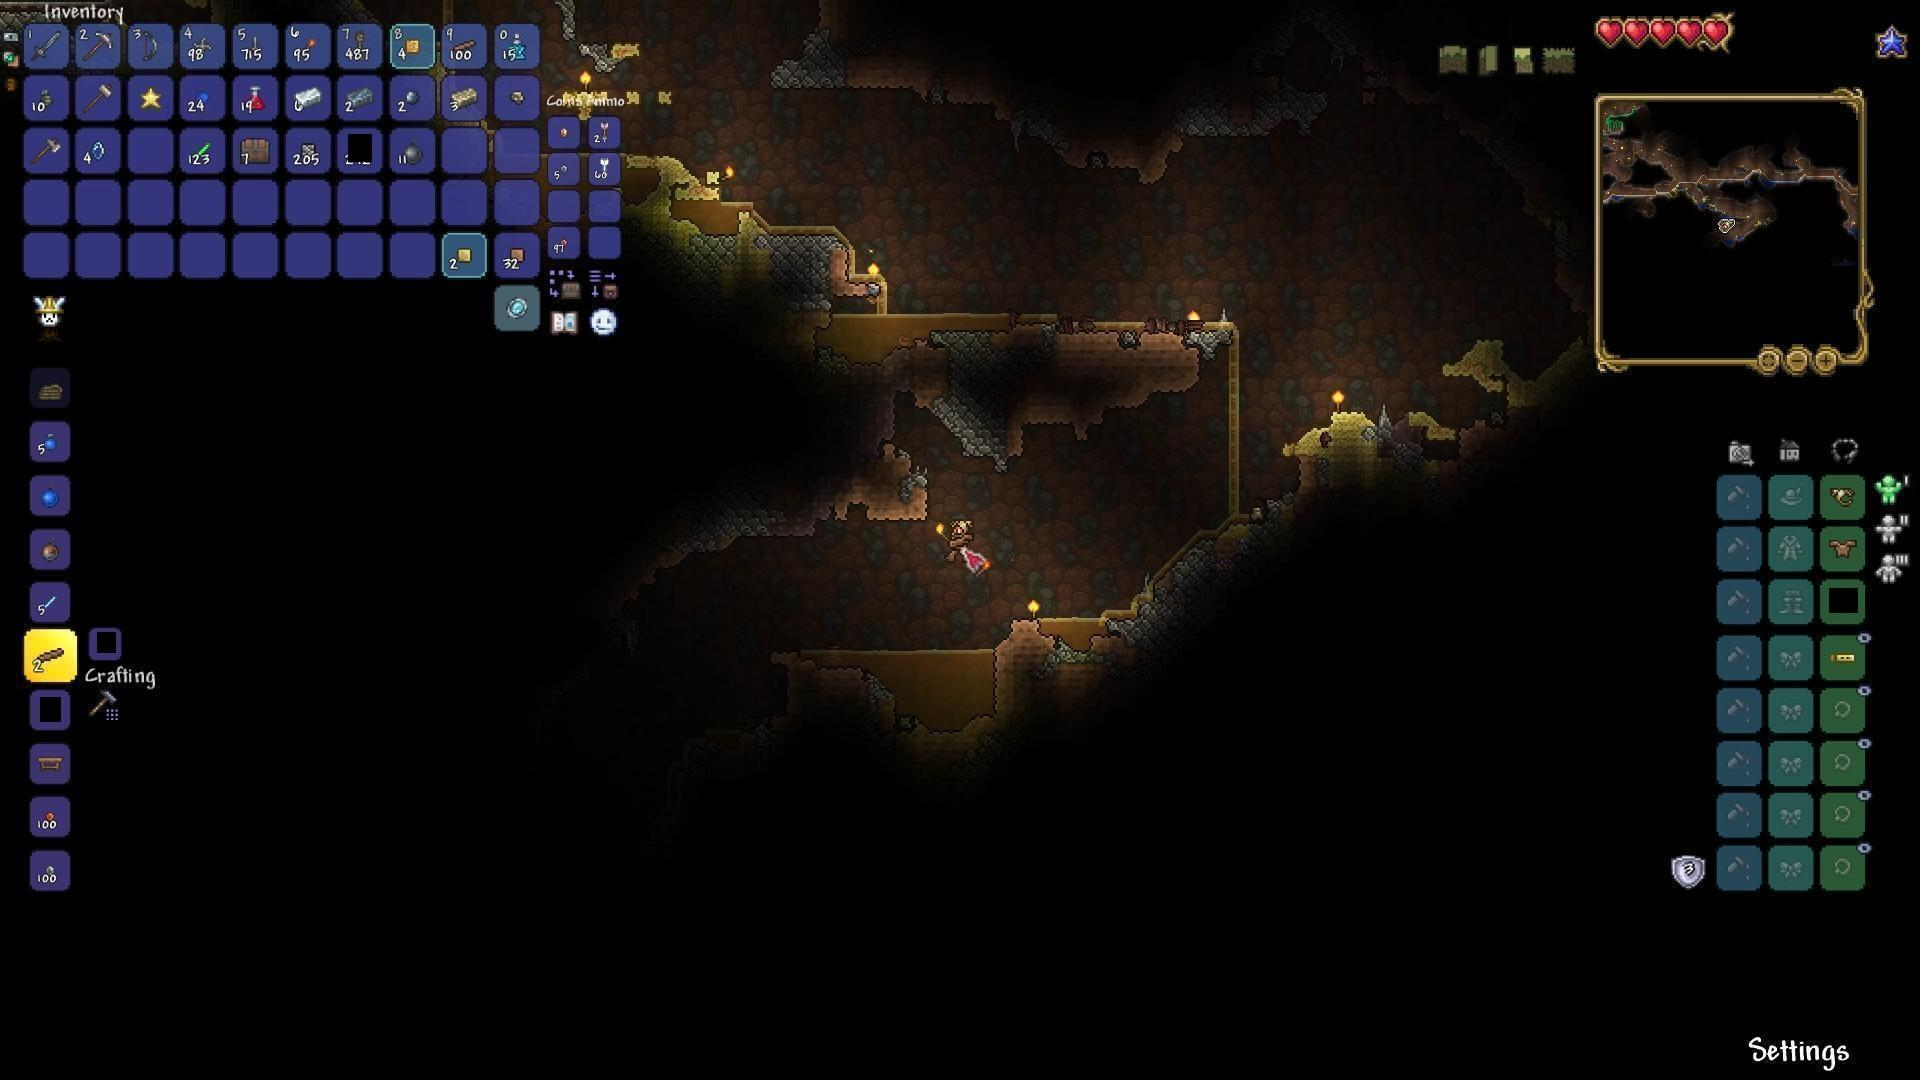breastplate: (1828, 541, 1855, 559)
helmet: (1830, 487, 1858, 508)
workbench: (36, 749, 65, 770)
